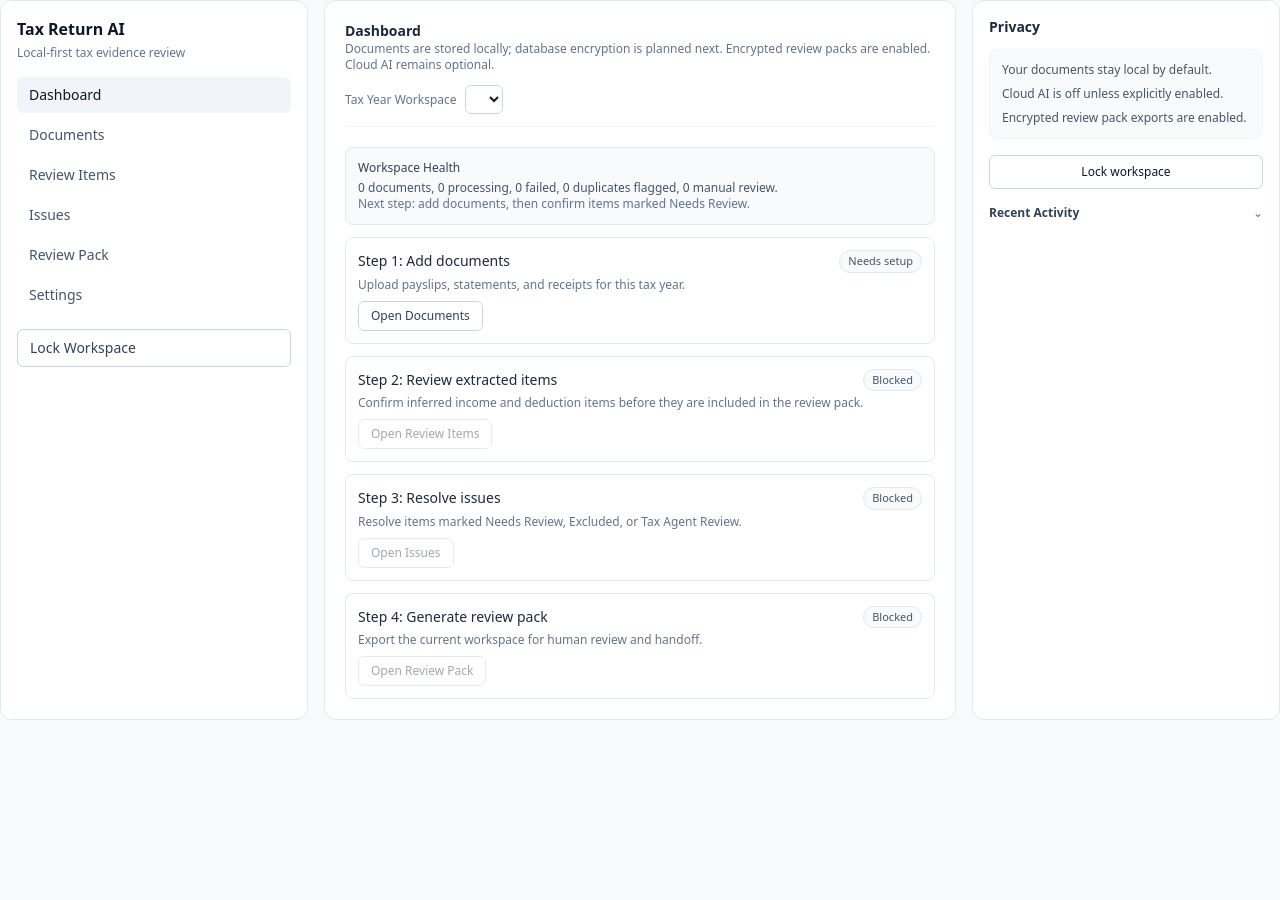
Scenario: WorkspaceApp API-backed states › shows graceful fallback when workspace context is missing
This screenshot has width=1280, height=900.
Click the button "Open Documents": [420, 316] box left=358, top=300, right=483, bottom=330
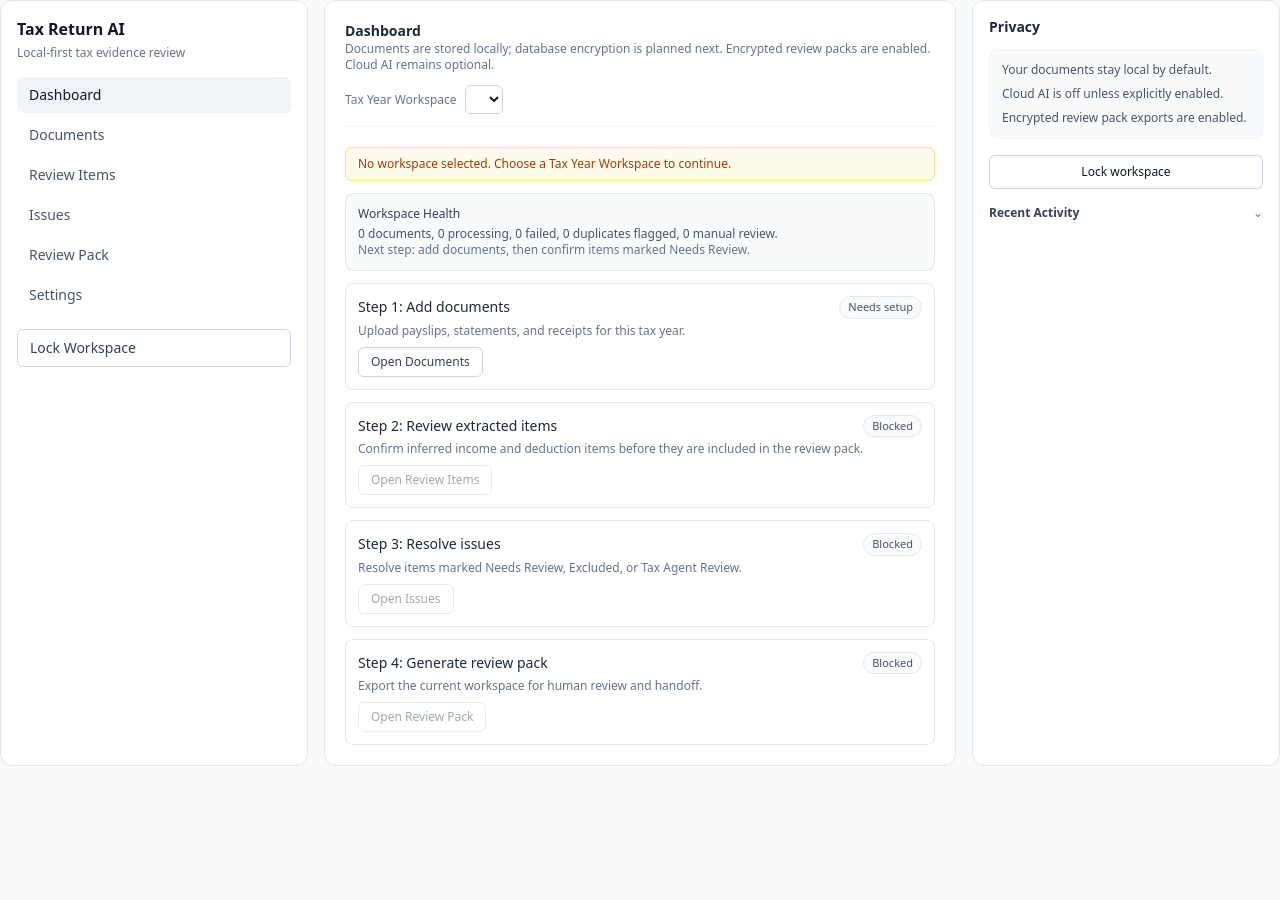
Result: the text "No workspace selected. Choose a Tax Year Workspace to continue." is shown at left=345, top=147, right=935, bottom=181
